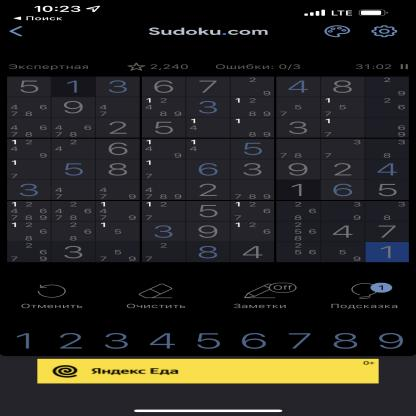sudoku: (4, 72, 411, 267)
